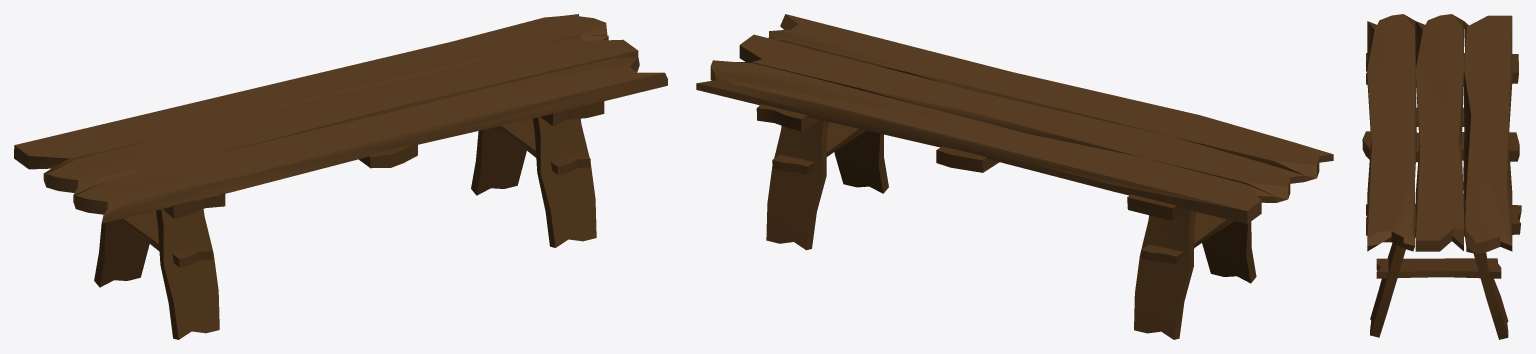
The model's file is BenchChair_4.fbx.
The picture shows the model from 3 angles, left to right: view 1: azimuth 30°, elevation 25°; view 2: azimuth 150°, elevation 25°; view 3: azimuth 270°, elevation 25°; orthographic projection. The views are drawn at different scales.
Visible parts, largest first — view 1: BenchChair_4; view 2: BenchChair_4; view 3: BenchChair_4.
Boxes of the visible parts, x1,y1,x2,y2 form: BenchChair_4: [14, 14, 667, 339]; BenchChair_4: [696, 14, 1333, 339]; BenchChair_4: [1362, 14, 1521, 339].
Size of the model in its own units: 171 by 44.31 by 50.27.
